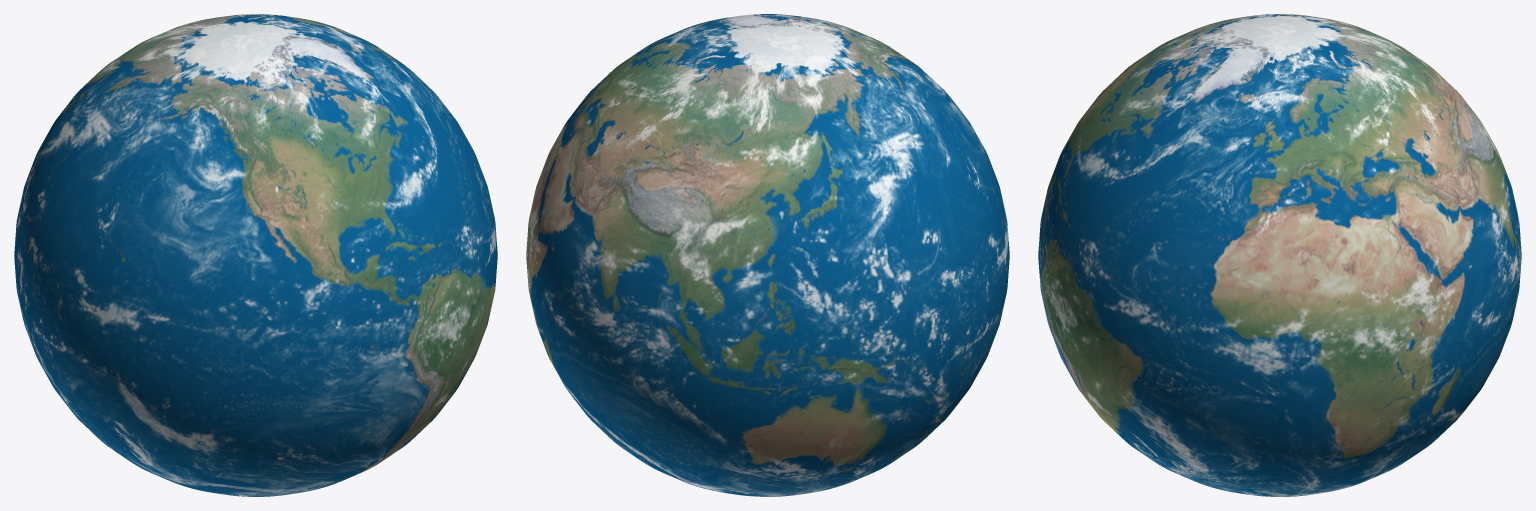
Rendered from earth.glb.
3 renders of one model, left to right at view 1: azimuth 30°, elevation 25°; view 2: azimuth 150°, elevation 25°; view 3: azimuth 270°, elevation 25°, orthographic.
Parts seen in each view (by area): view 1: Sphere_Material.002_0; view 2: Sphere_Material.002_0; view 3: Sphere_Material.002_0.
Boxes of the visible parts, x1,y1,x2,y2 form: Sphere_Material.002_0: (14, 14, 497, 496); Sphere_Material.002_0: (526, 14, 1009, 496); Sphere_Material.002_0: (1038, 14, 1521, 496).
Size of the model in its own units: 200 by 200 by 200.
1 material, 1 textured.
